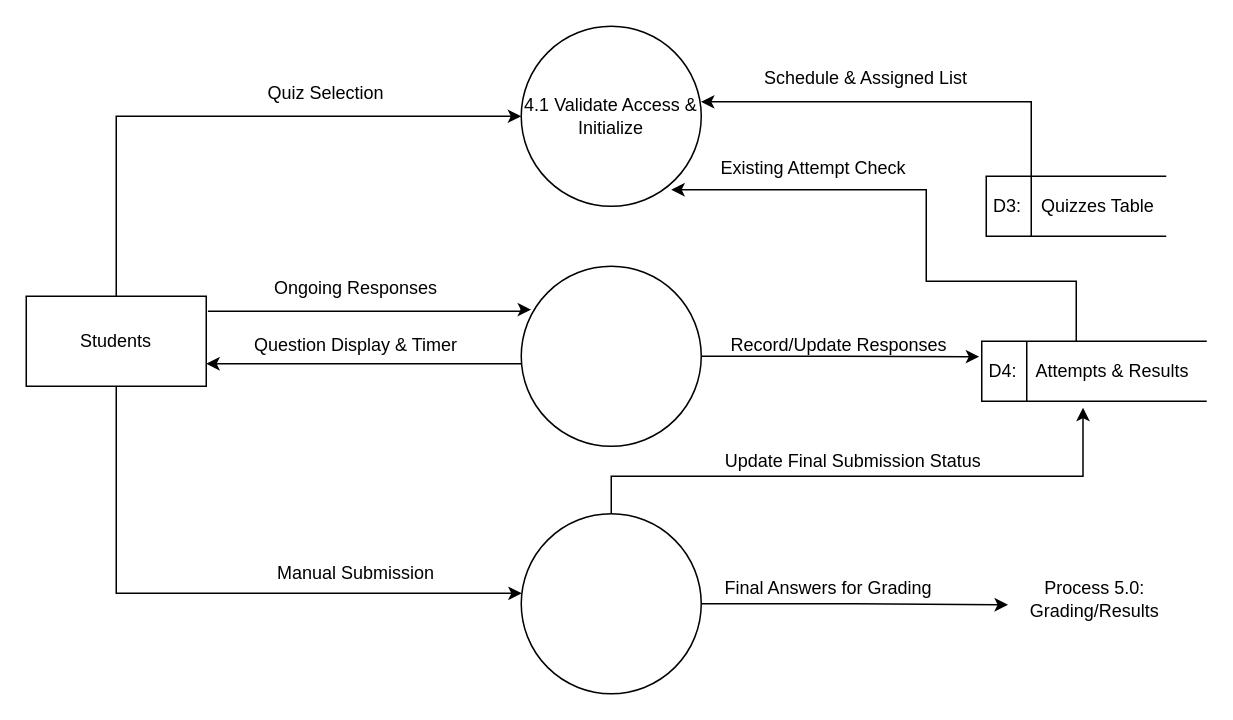
Image size: 1233x720. Some labels were removed from this diagram. Each missing label, with the centre of its shape:
"4.2 Execute Quiz & Auto-Save" belongs at pixel 610 355.
"4.3 Handle Submission" belongs at pixel 610 603.
